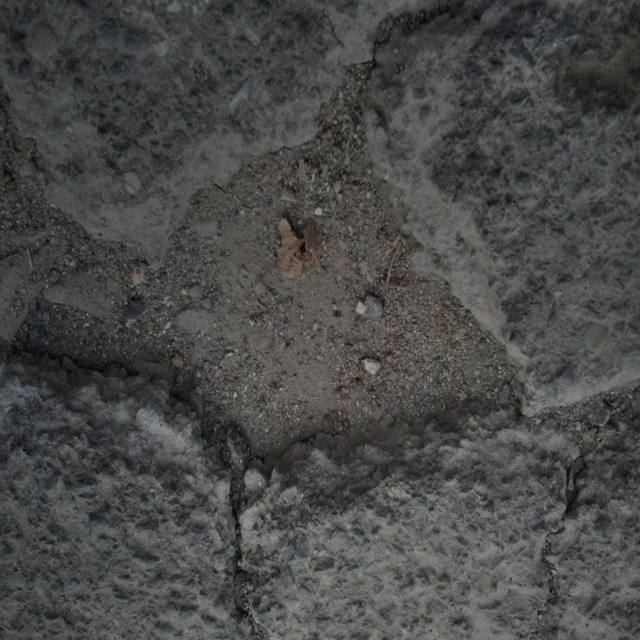pothole: (134, 88, 528, 482)
